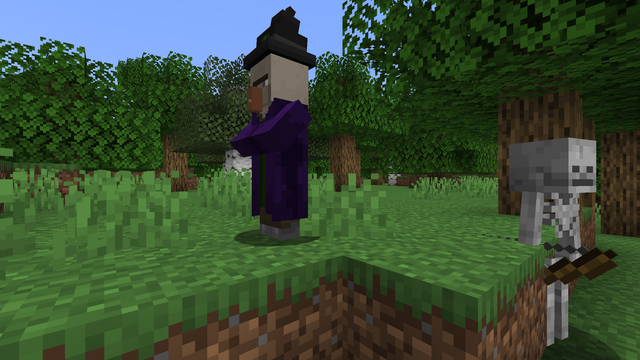sorcieres: (242, 40, 316, 244)
squelettes: (506, 136, 595, 358)
